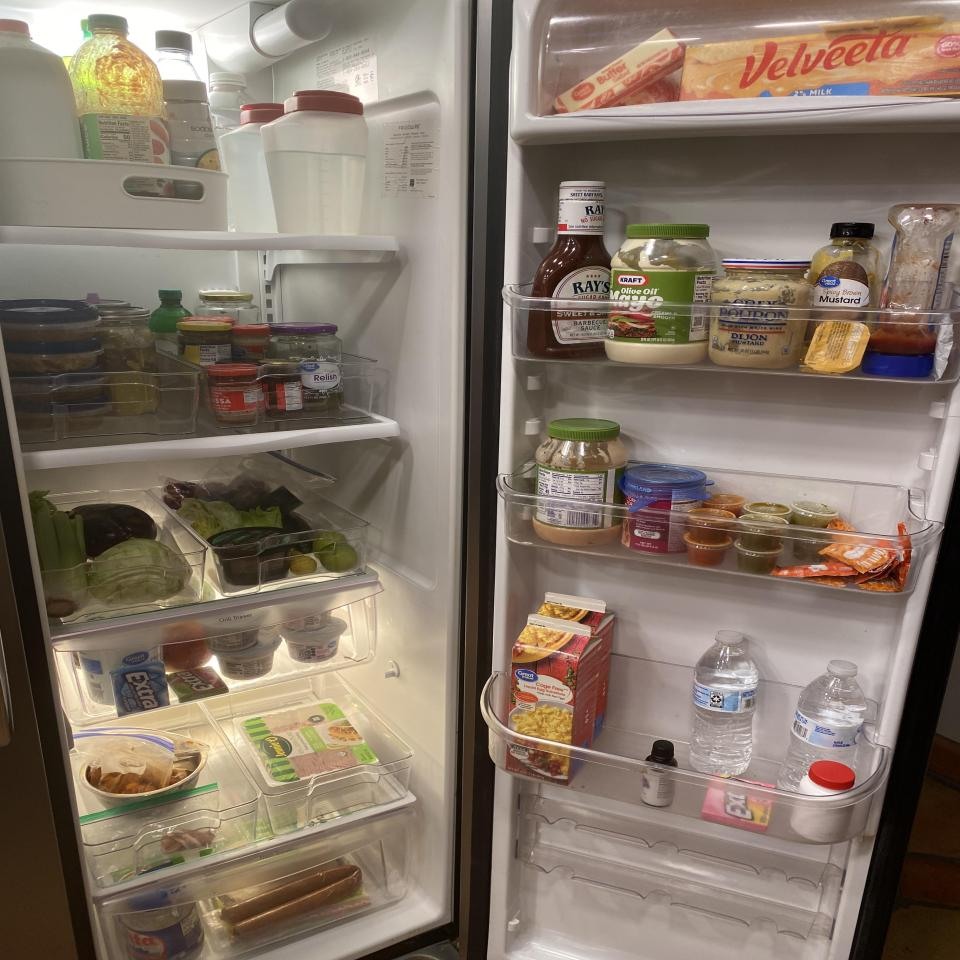Leche: (0, 19, 85, 160)
Mantequilla: (553, 27, 686, 114)
Queso: (679, 15, 960, 102)
Yogur: (76, 644, 171, 706)
